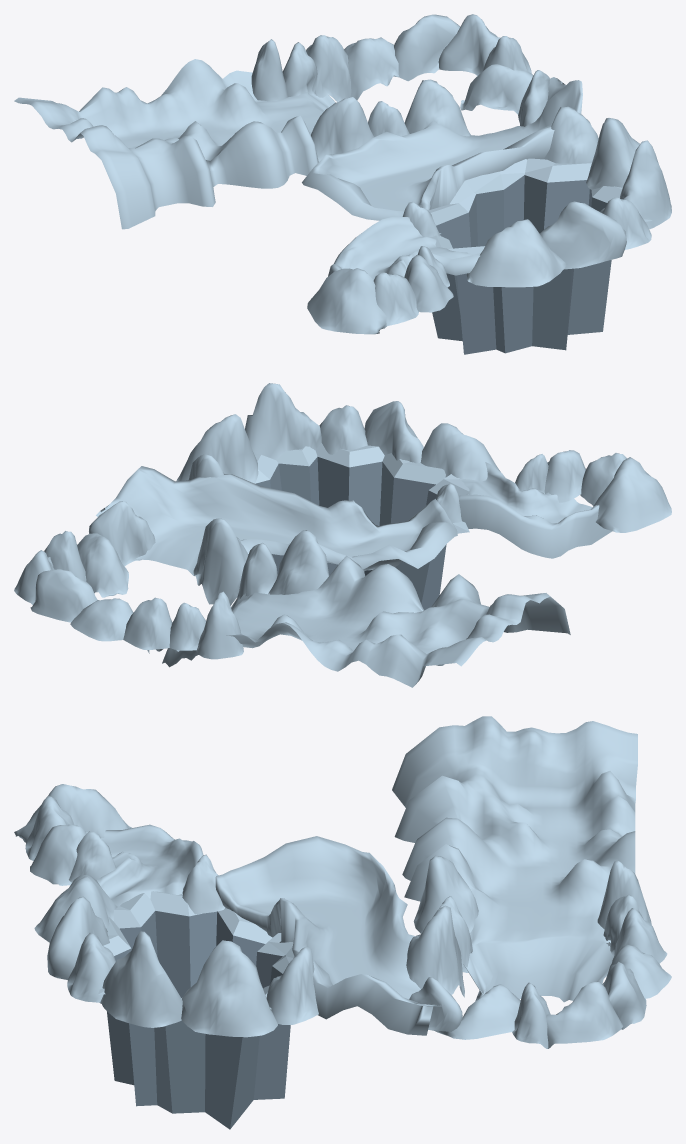
Rendered from InvernoBlocagem1.fbx.
3 views of the same model, one above another, from view 1: azimuth 30°, elevation 25°; view 2: azimuth 150°, elevation 25°; view 3: azimuth 270°, elevation 25° (orthographic). The views are drawn at different scales.
Parts seen in each view (by area): view 1: Circle; view 2: Circle; view 3: Circle.
Part boxes in pixels (bbox=[...]): Circle: bbox=[14, 14, 671, 354]; Circle: bbox=[14, 383, 671, 687]; Circle: bbox=[14, 716, 671, 1129].
Size of the model in its own units: 18658 by 7098 by 20169.
